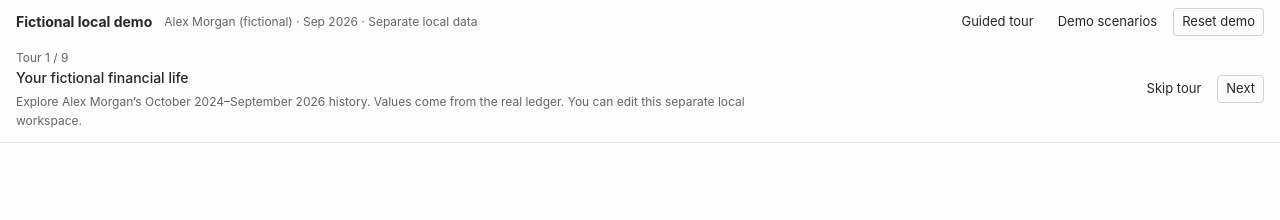
Test: requires explicit reset confirmation and renders failures
Click the button "Reset demo": (1219, 22) left=1173, top=8, right=1264, bottom=36
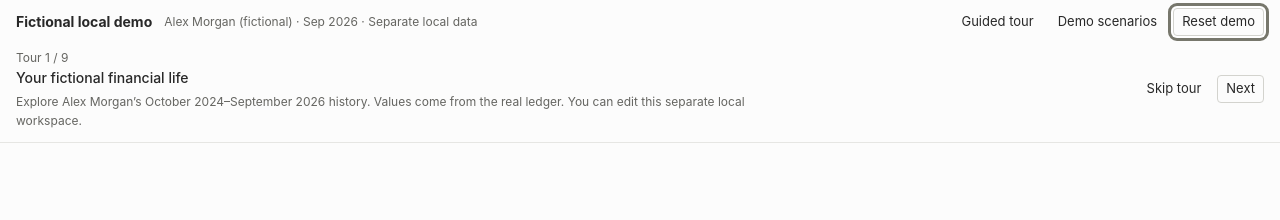
Click the button "Reset demo": (1219, 22) left=1173, top=8, right=1264, bottom=36
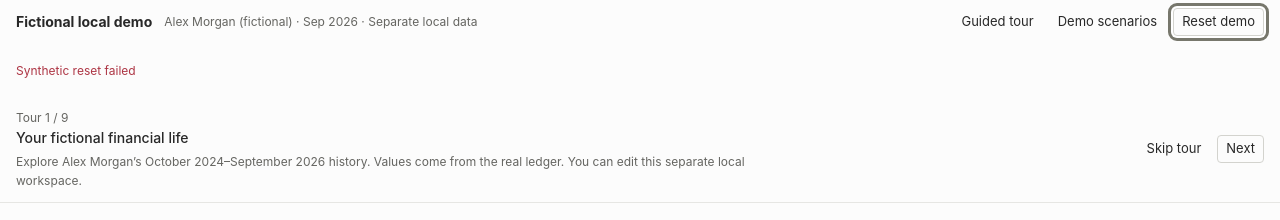
Expected: the text "Synthetic reset failed" is shown, left=16, top=63, right=136, bottom=78
